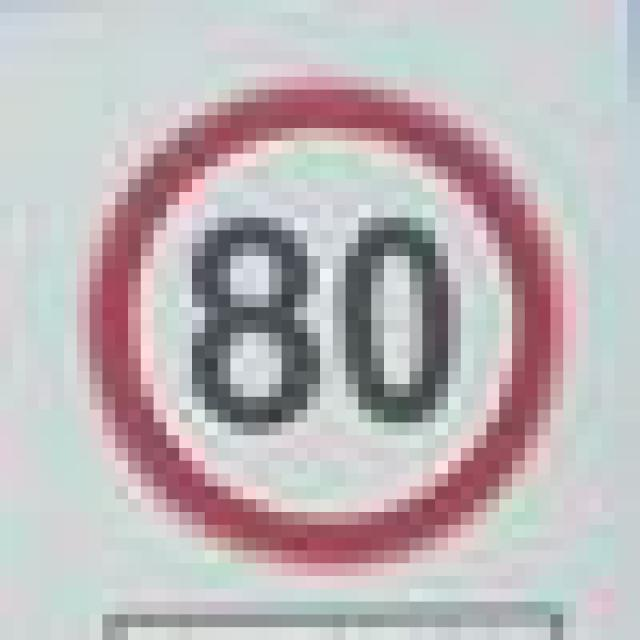speed_limit_50: (64, 77, 550, 550)
